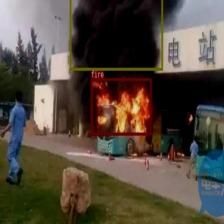fire: (90, 78, 151, 135)
smoke: (70, 0, 162, 70)
